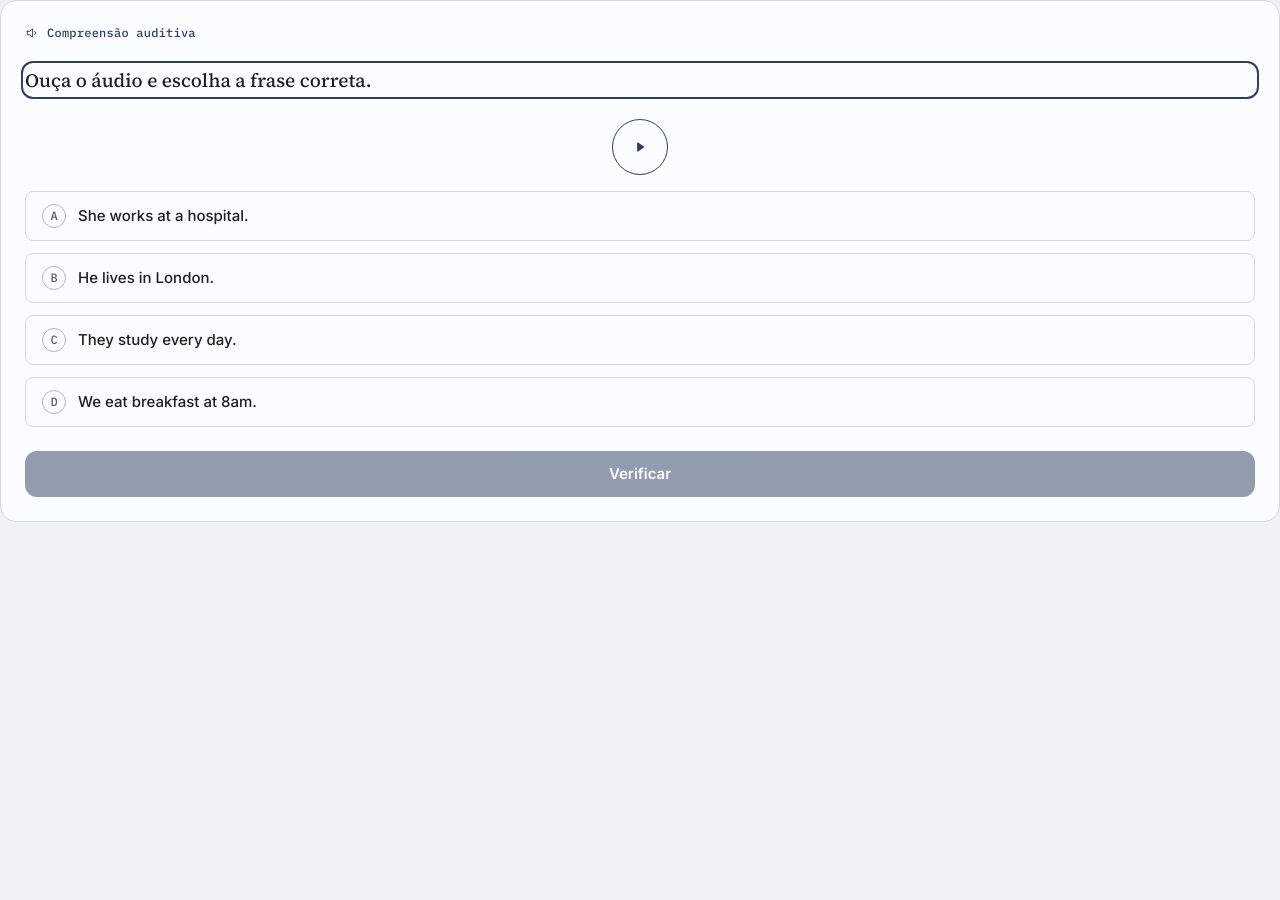
Test case: OptionListExercise › shows the translation as the post-answer explanation for a listening exercise
The width and height of the screenshot is (1280, 900).
Click the button "A She works at a hospital." at (163, 215), box [25,191,1255,241]
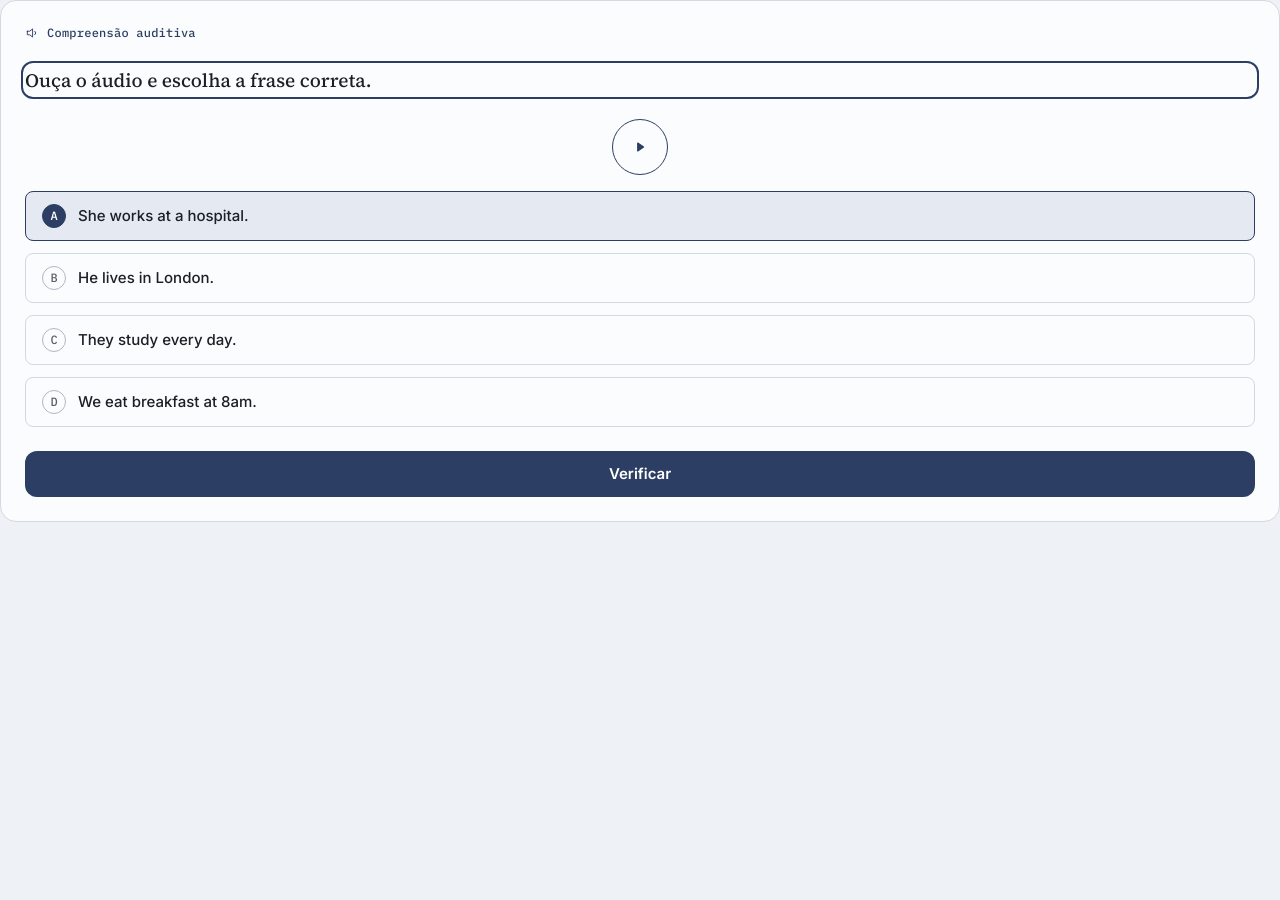
Click the button "Verificar" at (640, 474), box [25,451,1255,498]
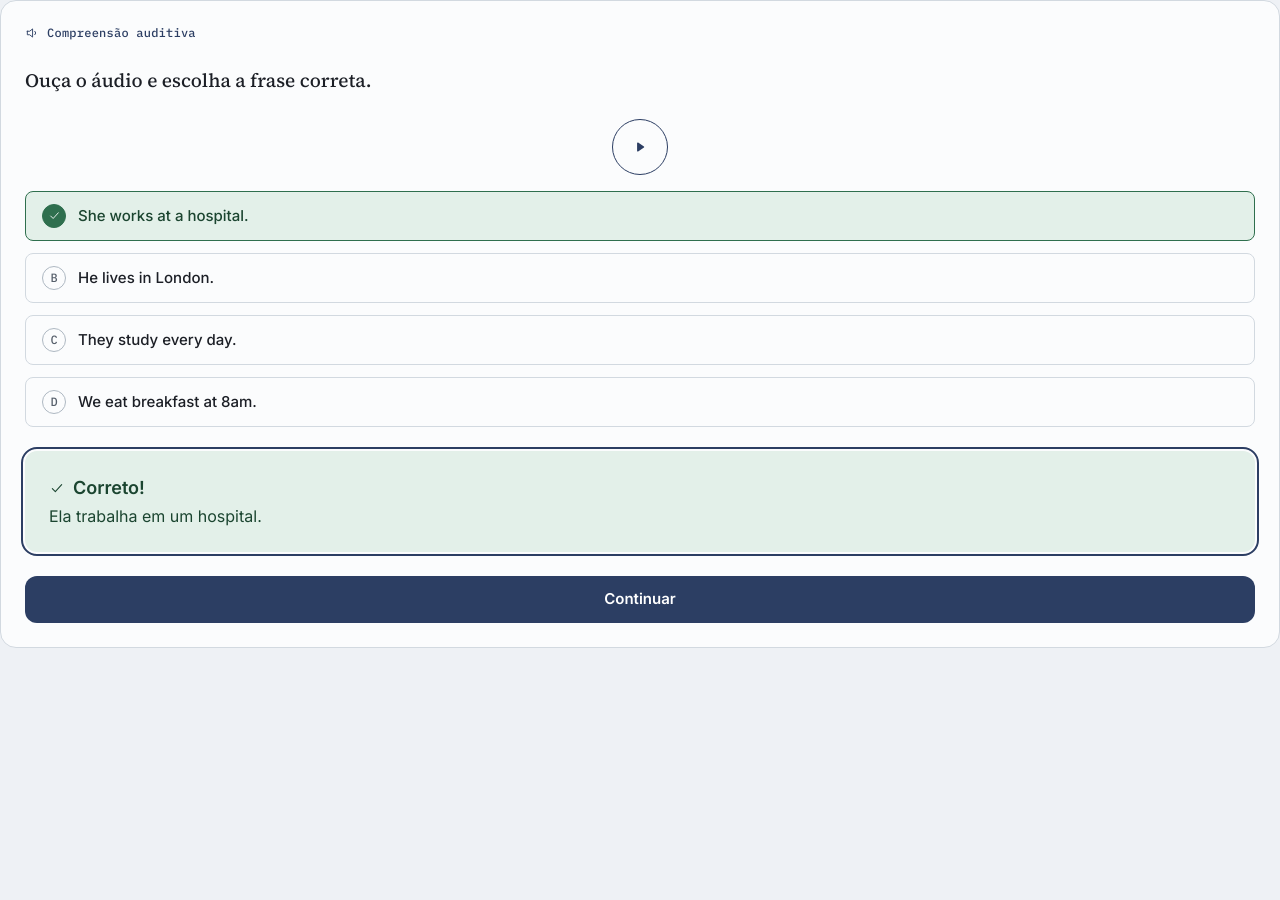
Expected: the text "Ela trabalha em um hospital." is shown, [49,506,262,526]
